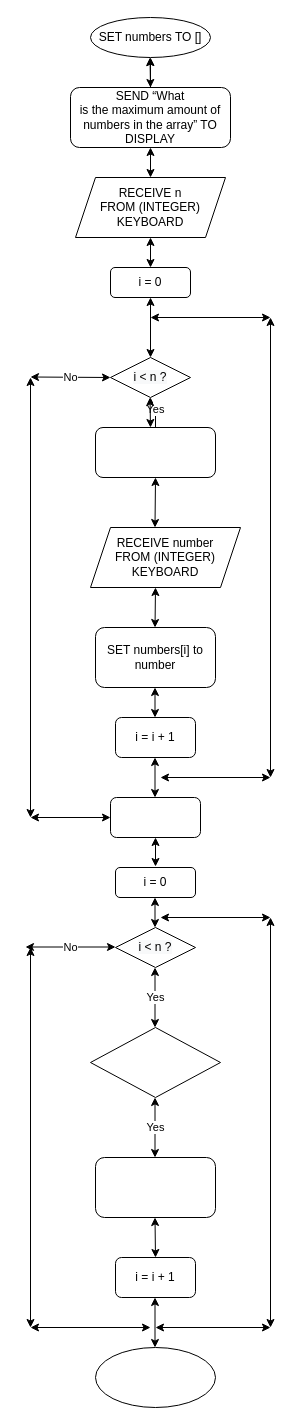
Some shapes in this 297 by 1425 pixel diagram are drawn without their labels. Each missing label, with the centre of its shape:
"max < numbers[i] ?" goes at [155,1062].
"SEND max TO DISPLAY" goes at [155,1377].
"SEND “Enter first number” TO DISPLAY" goes at [155,452].
"SET max TO 0" goes at [155,817].
"SET max TO numbers[i]" goes at [155,1187].
